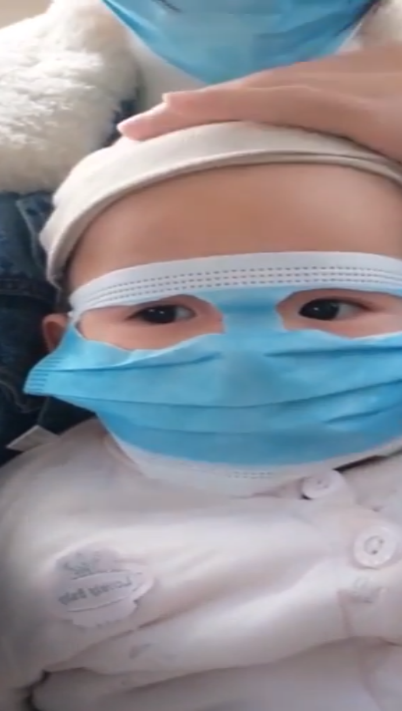mask_weared_incorrect: (28, 134, 402, 475)
